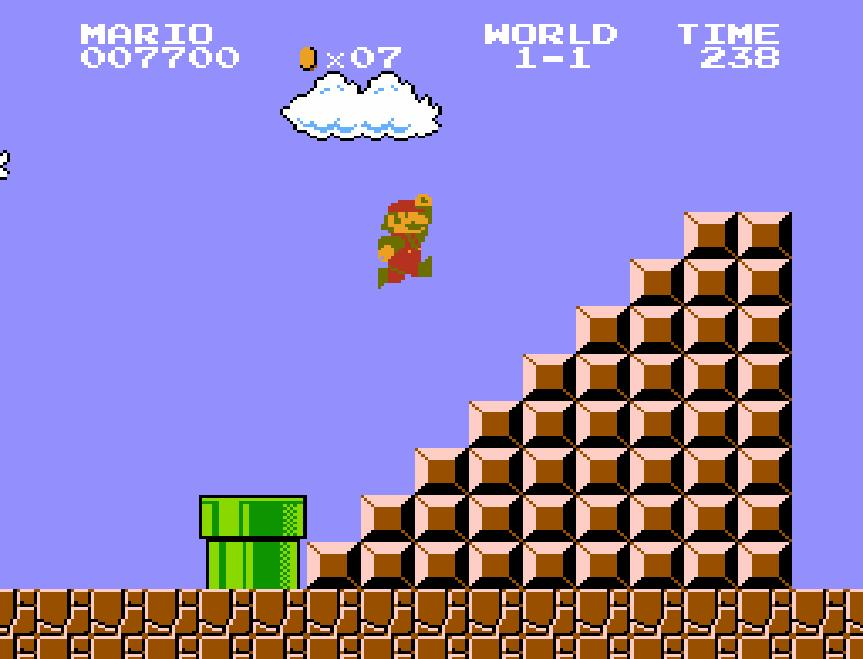big_mario: (376, 192, 434, 290)
